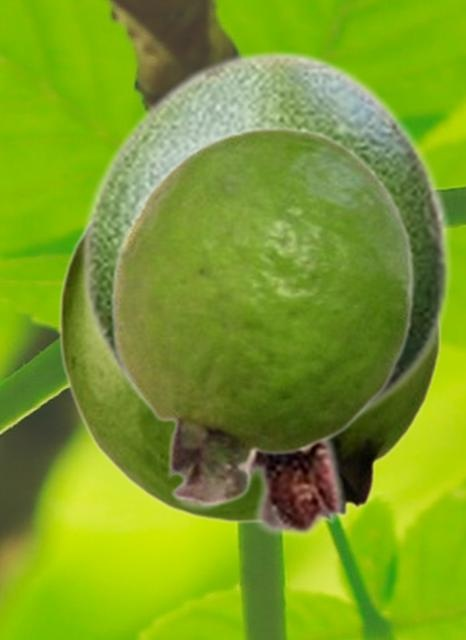guava: (79, 48, 454, 539), (110, 124, 415, 506), (57, 226, 441, 524)
